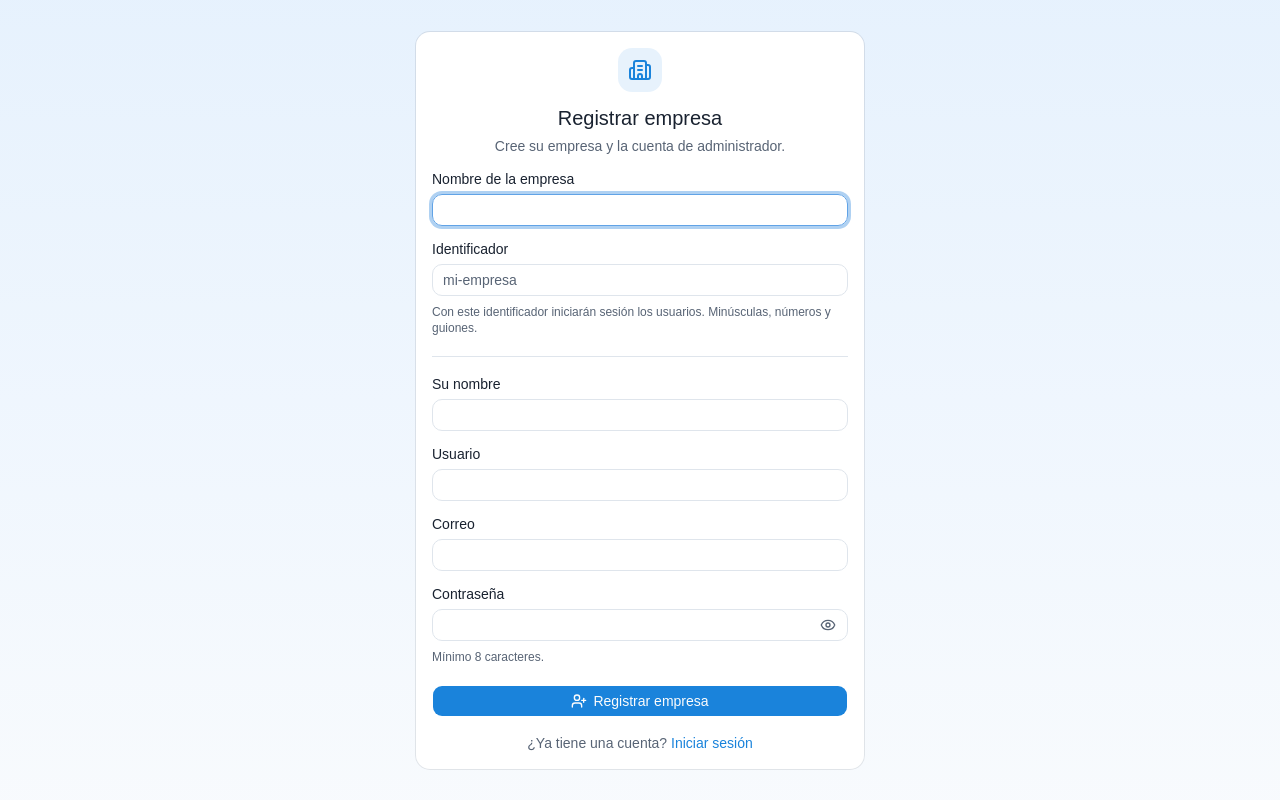
Test: RegisterCompanyPage (CU-22) › propone el identificador a partir del nombre, sin acentos ni espacios
In the field labelled "Nombre de la empresa": (640, 210) [432,194,848,226], type "Diseño Gráfico S.A."
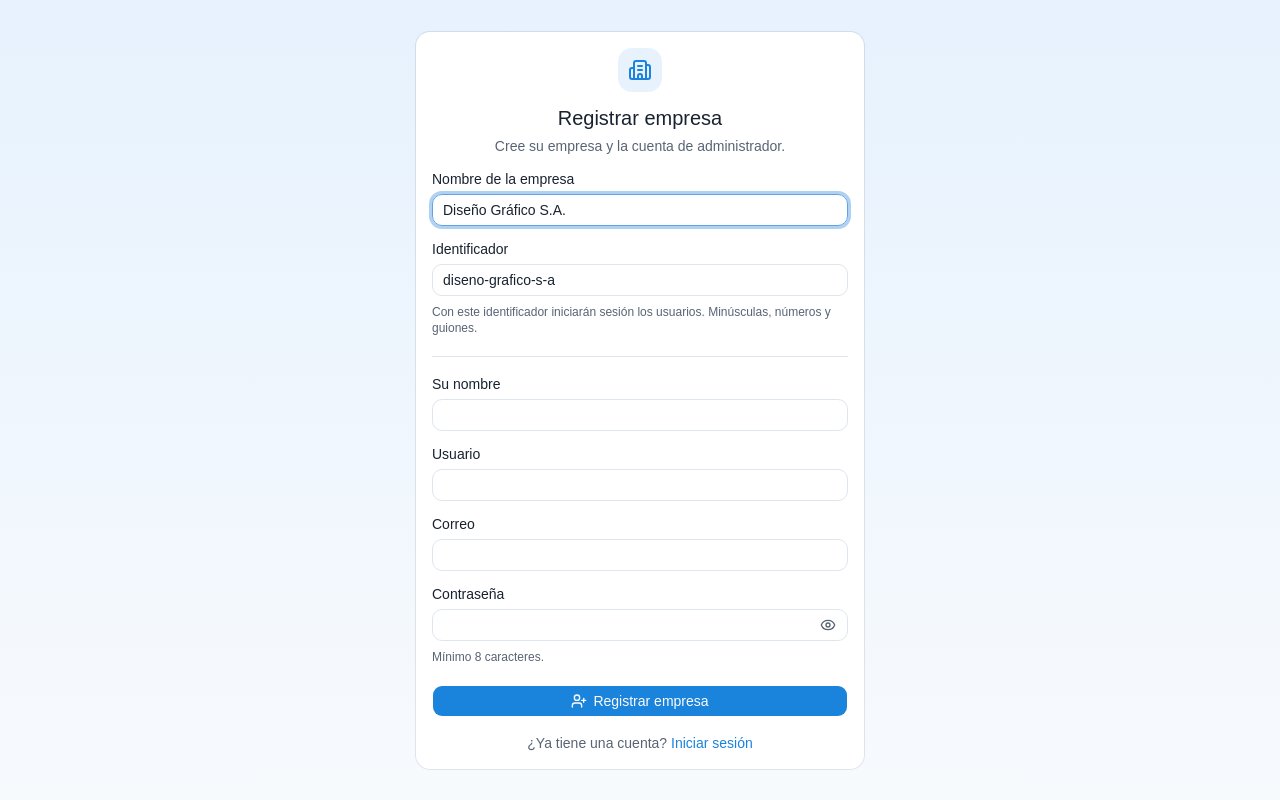
Now the field labelled "Identificador" holds "diseno-grafico-s-a", box [432,264,848,296]
